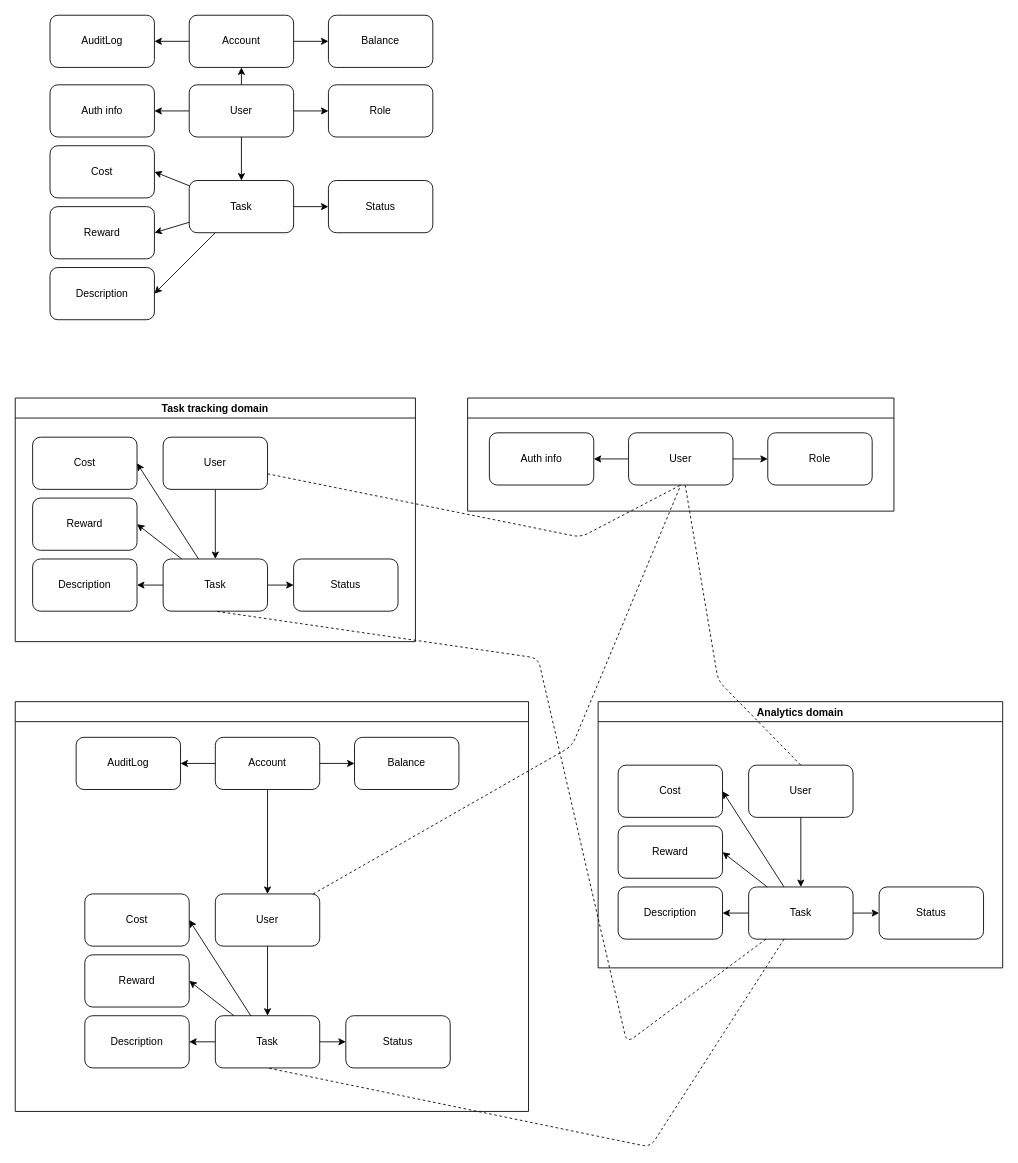
Image size: 1018x1163. Some labels were removed from this diagram. Each missing label, with the box of its shape:
Accounting domain: (14, 701, 529, 1111)
Auth domain: (467, 397, 894, 511)
